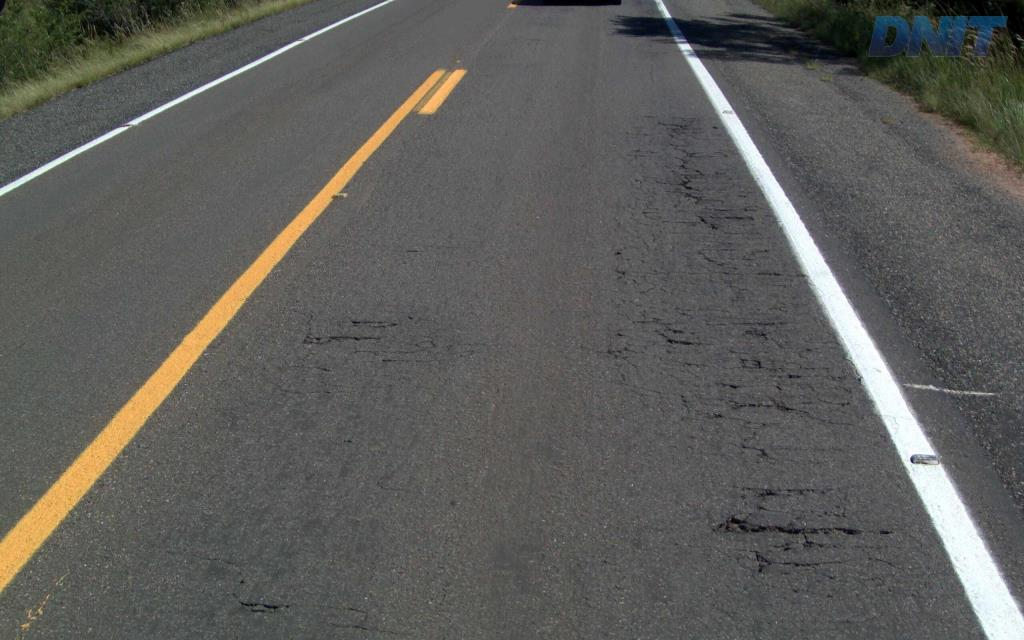crack: (711, 512, 861, 552), (749, 550, 820, 574)
